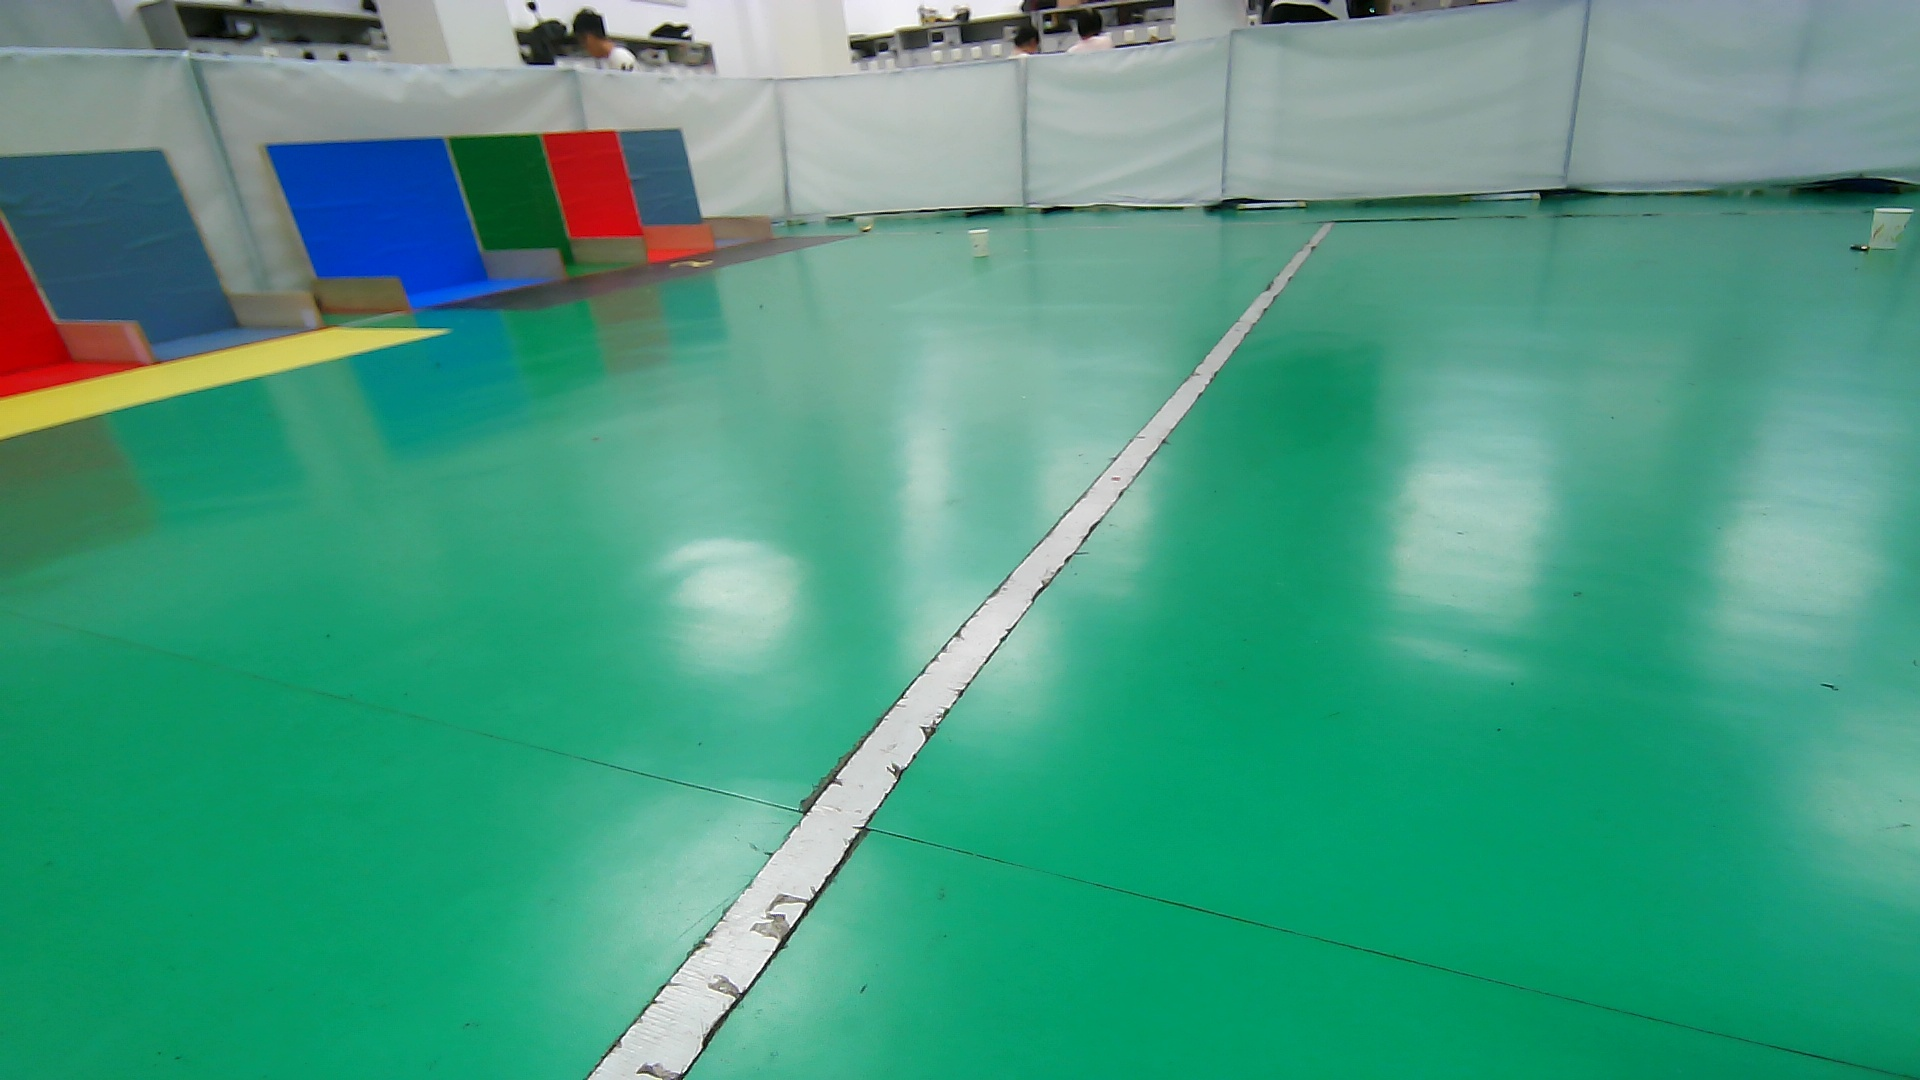battery: (1845, 240, 1874, 256)
papercup: (1870, 202, 1913, 252), (964, 224, 994, 261)
